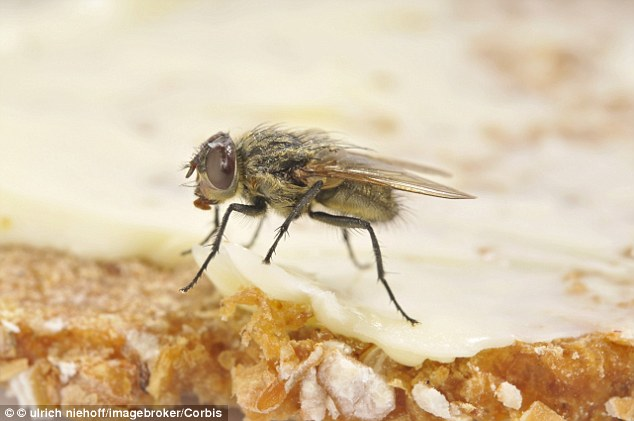green bottles flies: (172, 100, 471, 336)
